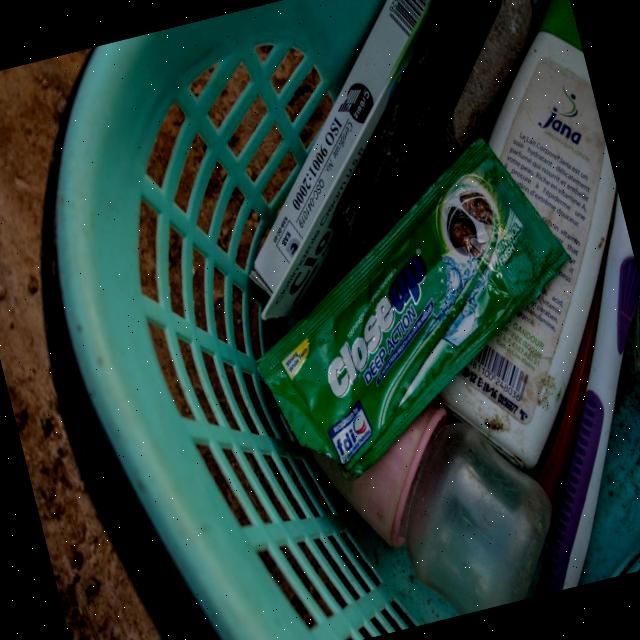Toothpaste: (212, 164, 624, 490)
